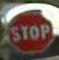stop: (6, 11, 54, 53)
